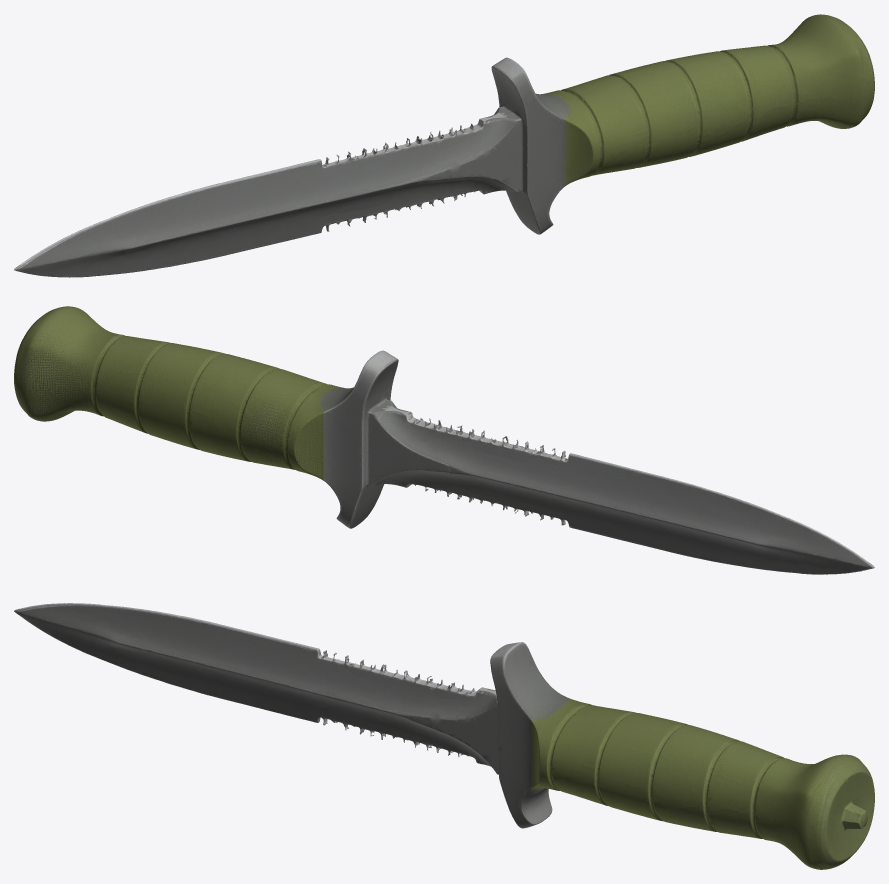
The model's file is Meshy_AI_knife_1012115741_texture.glb.
3 renders of one model, top to bottom at view 1: azimuth 30°, elevation 25°; view 2: azimuth 150°, elevation 25°; view 3: azimuth 330°, elevation 25°, orthographic.
Parts seen in each view (by area): view 1: mesh_node; view 2: mesh_node; view 3: mesh_node.
Boxes of the visible parts, x1,y1,x2,y2 form: mesh_node: [14, 14, 874, 277]; mesh_node: [14, 306, 874, 574]; mesh_node: [14, 603, 874, 869].
Bounding box in the file's own units: 1.9 × 0.3696 × 0.2244.
Materials: 1 (1 with a texture image).
